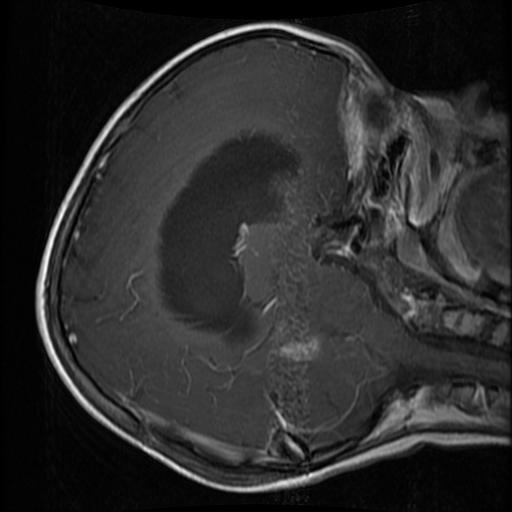glioma: (153, 136, 298, 346)
